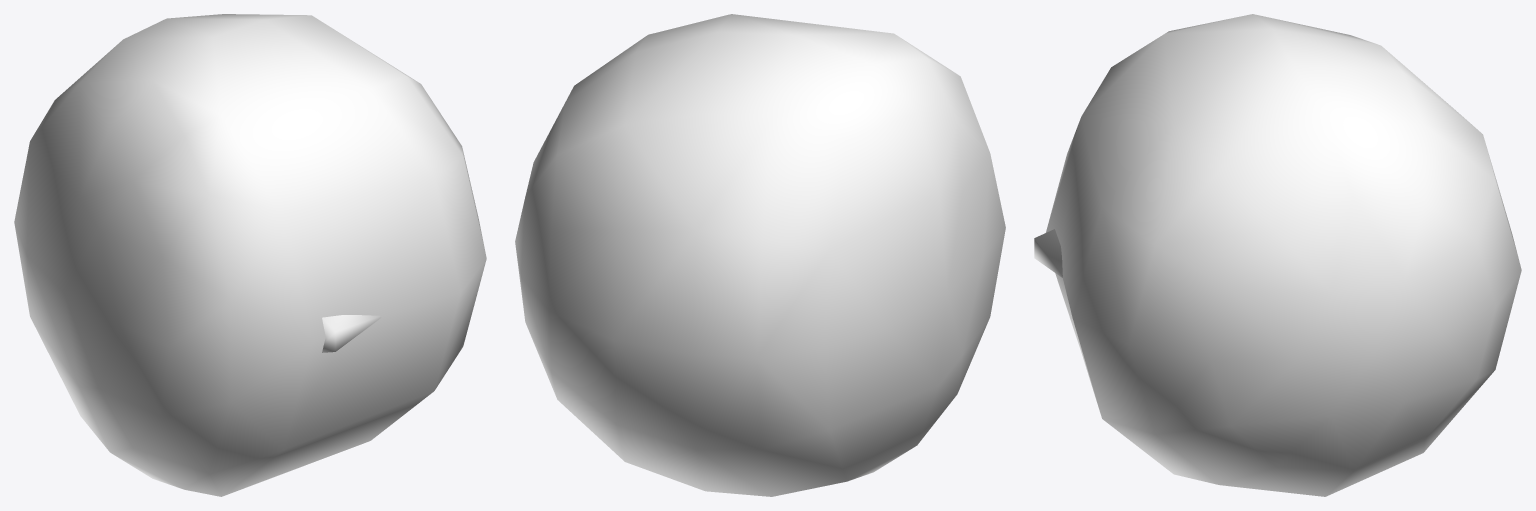
The model's file is bald.dae.
3 renders of one model, left to right at view 1: azimuth 30°, elevation 25°; view 2: azimuth 150°, elevation 25°; view 3: azimuth 270°, elevation 25°, orthographic. The views are drawn at different scales.
Visible parts, largest first — view 1: bald; view 2: bald; view 3: bald.
Boxes of the visible parts, left/top/right/bottom form: bald: left=14, top=14, right=486, bottom=496; bald: left=515, top=14, right=1005, bottom=496; bald: left=1034, top=14, right=1521, bottom=496.
Size of the model in its own units: 20.11 by 21.63 by 22.01.
Materials: 3 (1 with a texture image).
